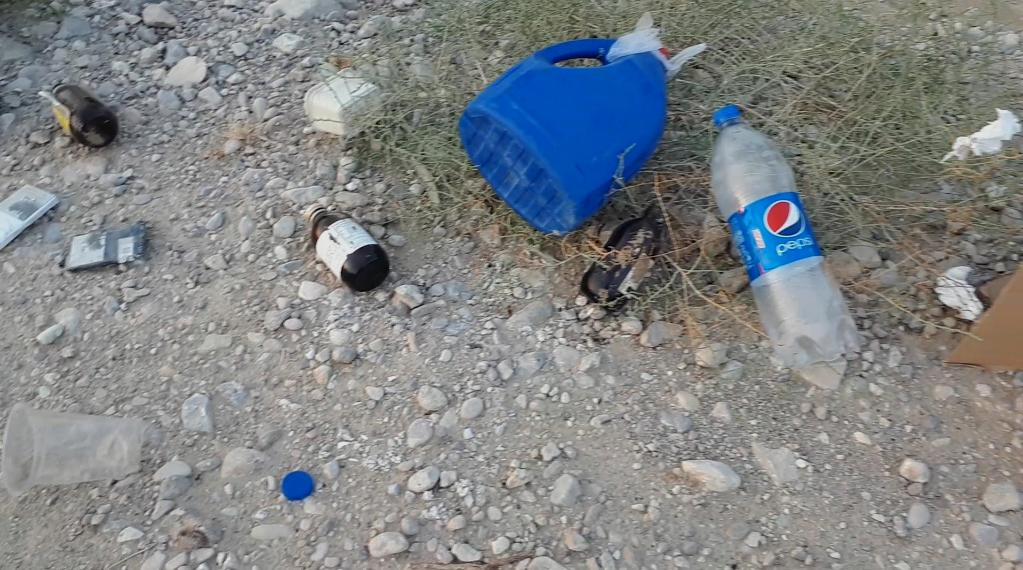garbage: (683, 89, 879, 381), (441, 19, 711, 225), (459, 29, 668, 236), (712, 104, 861, 369), (274, 195, 405, 292), (591, 187, 674, 318), (28, 67, 137, 163), (582, 204, 665, 310), (305, 204, 389, 291), (46, 83, 118, 148)
